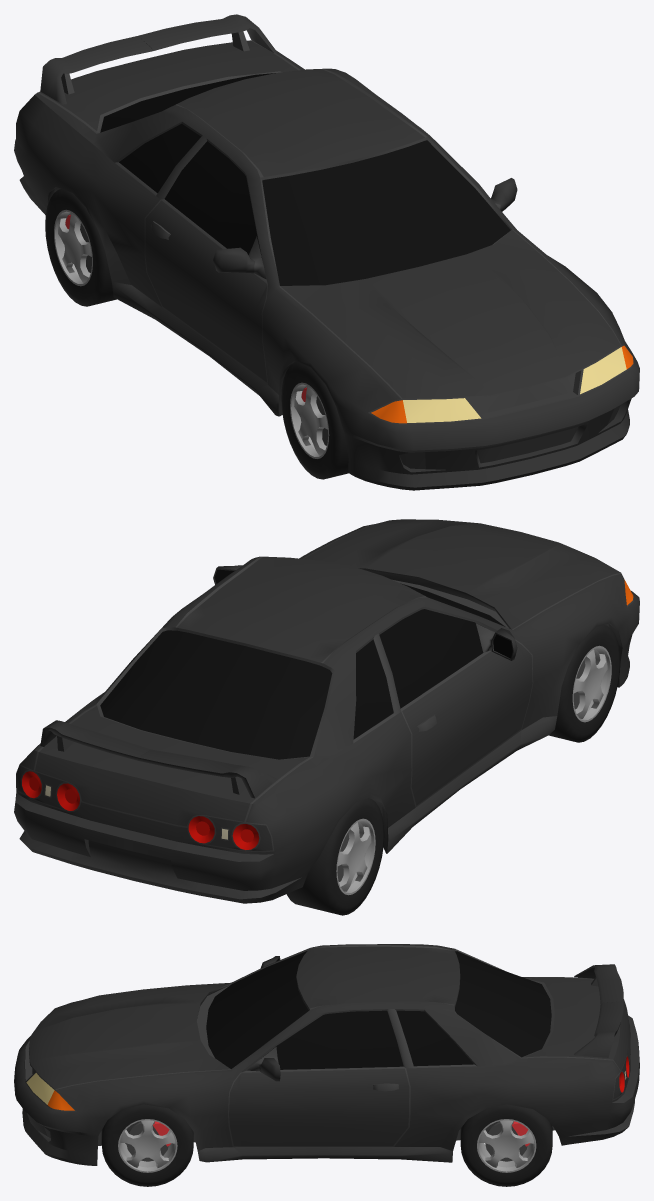
File: nissan_gtr_32_EXP.obj
3 views of the same model, one above another, from view 1: azimuth 30°, elevation 25°; view 2: azimuth 150°, elevation 25°; view 3: azimuth 270°, elevation 25° (orthographic). The views are drawn at different scales.
Visible parts, largest first — view 1: Body, Tire_FR, Tire_RR, Spoiler; view 2: Body, Tire_RR, Tire_FR, Spoiler; view 3: Body, Tire_RL, Tire_FL, Spoiler, Disk_RL, Disk_FL.
Part boxes in pixels (<box>): Body: <box>14,40,639,490</box>; Tire_FR: <box>281,362,348,479</box>; Tire_RR: <box>45,189,116,306</box>; Spoiler: <box>40,14,276,104</box>; Body: <box>14,519,639,903</box>; Tire_RR: <box>286,798,384,915</box>; Tire_FR: <box>549,625,620,742</box>; Spoiler: <box>40,720,276,798</box>; Body: <box>14,944,639,1165</box>; Tire_RL: <box>460,1104,552,1186</box>; Tire_FL: <box>101,1104,193,1186</box>; Spoiler: <box>574,964,623,1057</box>; Disk_RL: <box>485,1121,529,1161</box>; Disk_FL: <box>126,1121,170,1161</box>.
Bounding box in the file's own units: 1.31 × 0.899 × 3.1.
Materials: 1 (1 with a texture image).
